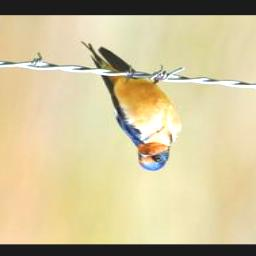Swallow: (80, 41, 183, 173)
